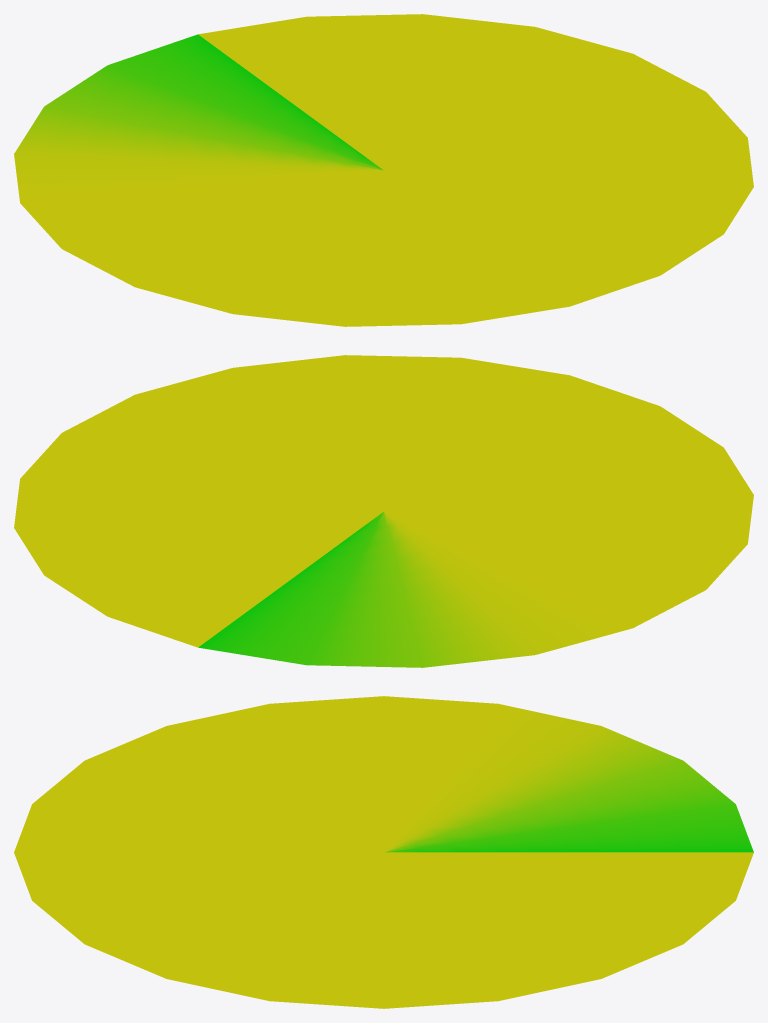
File: yuanpan.fbx
The picture shows the model from 3 angles, top to bottom: view 1: azimuth 30°, elevation 25°; view 2: azimuth 150°, elevation 25°; view 3: azimuth 270°, elevation 25°; orthographic projection.
Parts seen in each view (by area): view 1: Tube001; view 2: Tube001; view 3: Tube001.
Part boxes in pixels (<box>): Tube001: <box>14,14,753,326</box>; Tube001: <box>14,355,753,667</box>; Tube001: <box>14,696,753,1008</box>.
Bounding box in the file's own units: 2 × 1.22e-16 × 2.
